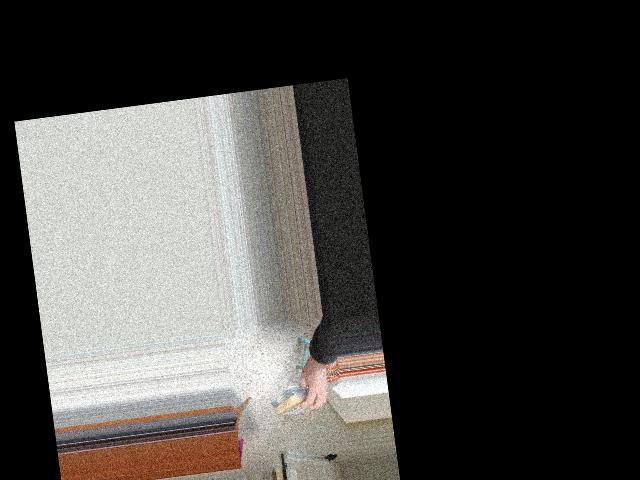cheese: (269, 388, 318, 417)
